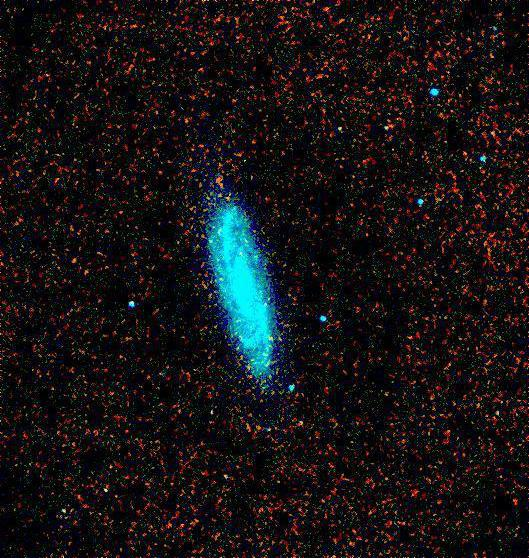star: (215, 179, 245, 209)
